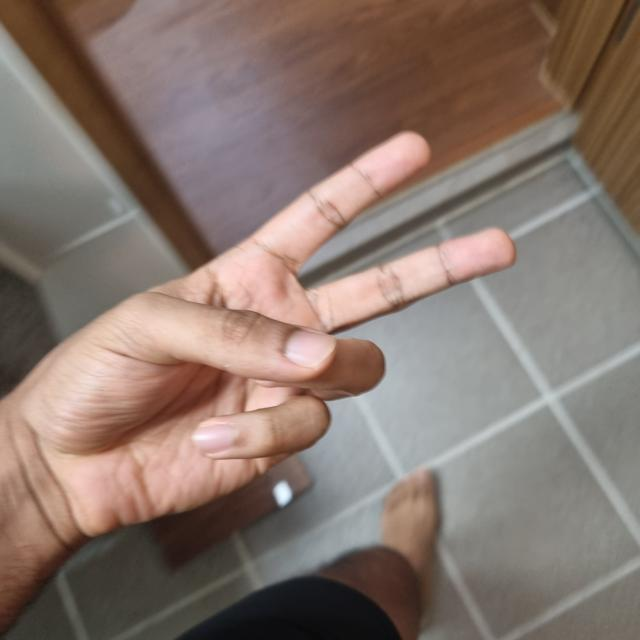Scissors: (25, 136, 504, 534)
